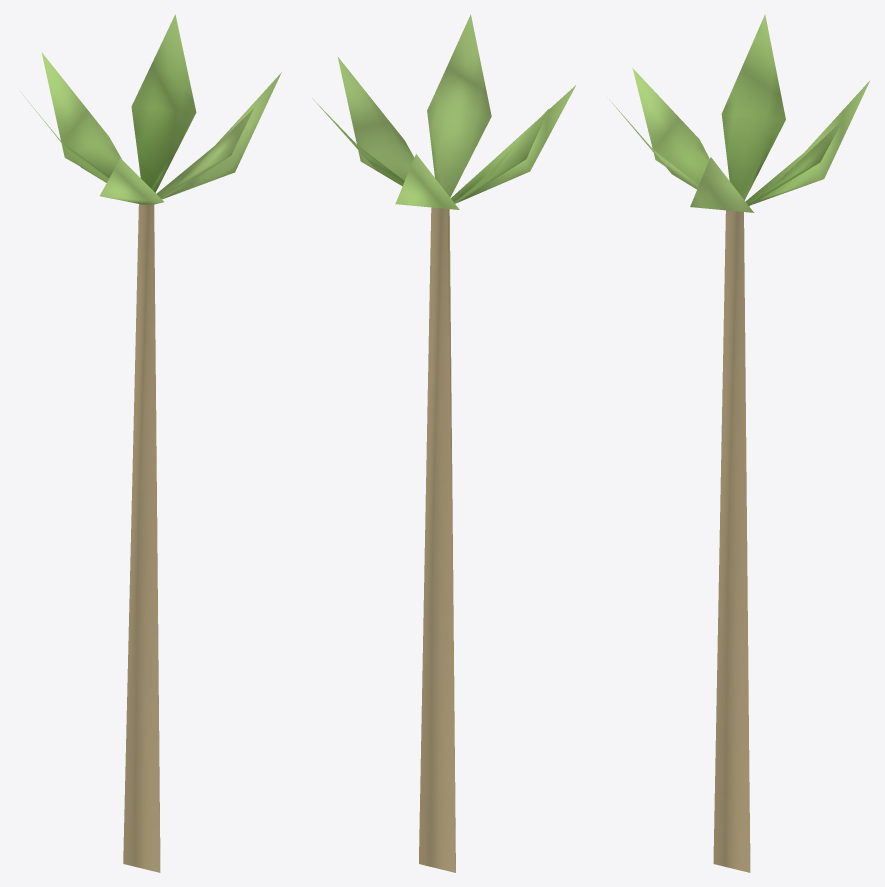
3 renders of one model, left to right at view 1: azimuth 30°, elevation 25°; view 2: azimuth 150°, elevation 25°; view 3: azimuth 270°, elevation 25°, orthographic.
Visible parts, largest first — view 1: LOD2Palm1; view 2: LOD2Palm1; view 3: LOD2Palm1.
Boxes of the visible parts, x1,y1,x2,y2 form: LOD2Palm1: (19, 14, 281, 872); LOD2Palm1: (312, 14, 575, 872); LOD2Palm1: (607, 14, 870, 872).
Bounding box in the file's own units: 6.14 × 19.5 × 5.92.
1 material, 1 textured.
